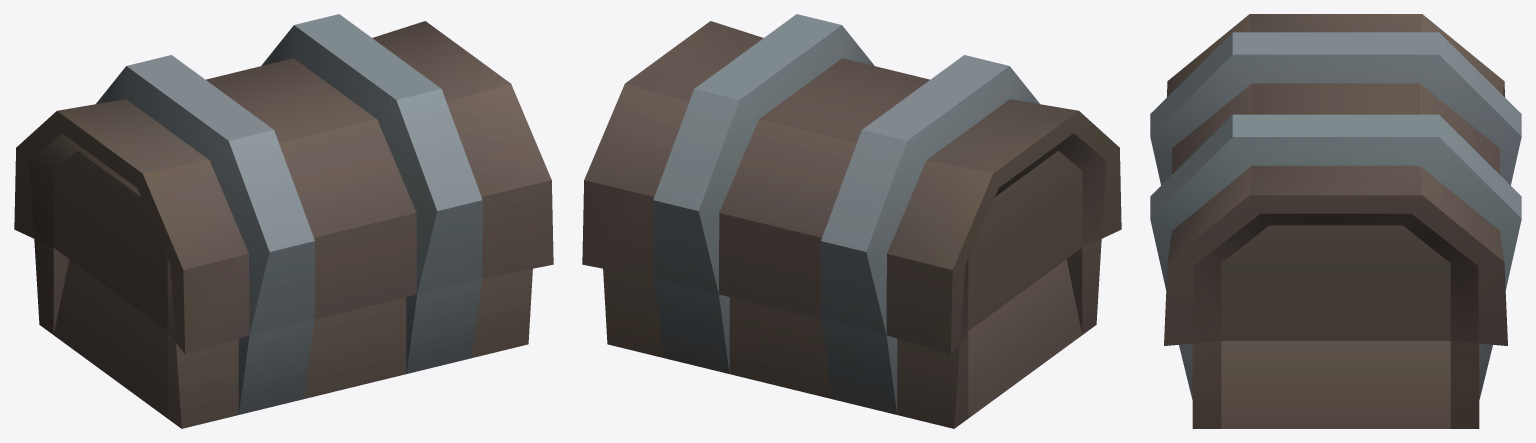
File: trunk_large_b.glb
3 renders of one model, left to right at view 1: azimuth 30°, elevation 25°; view 2: azimuth 150°, elevation 25°; view 3: azimuth 270°, elevation 25°, orthographic.
Visible parts, largest first — view 1: trunk_large_B; view 2: trunk_large_B; view 3: trunk_large_B.
Part boxes in pixels (<box>): trunk_large_B: <box>14,14,553,428</box>; trunk_large_B: <box>582,14,1121,428</box>; trunk_large_B: <box>1150,14,1521,428</box>.
Size of the model in its own units: 1.5 by 1 by 1.3.
1 material, 1 textured.
